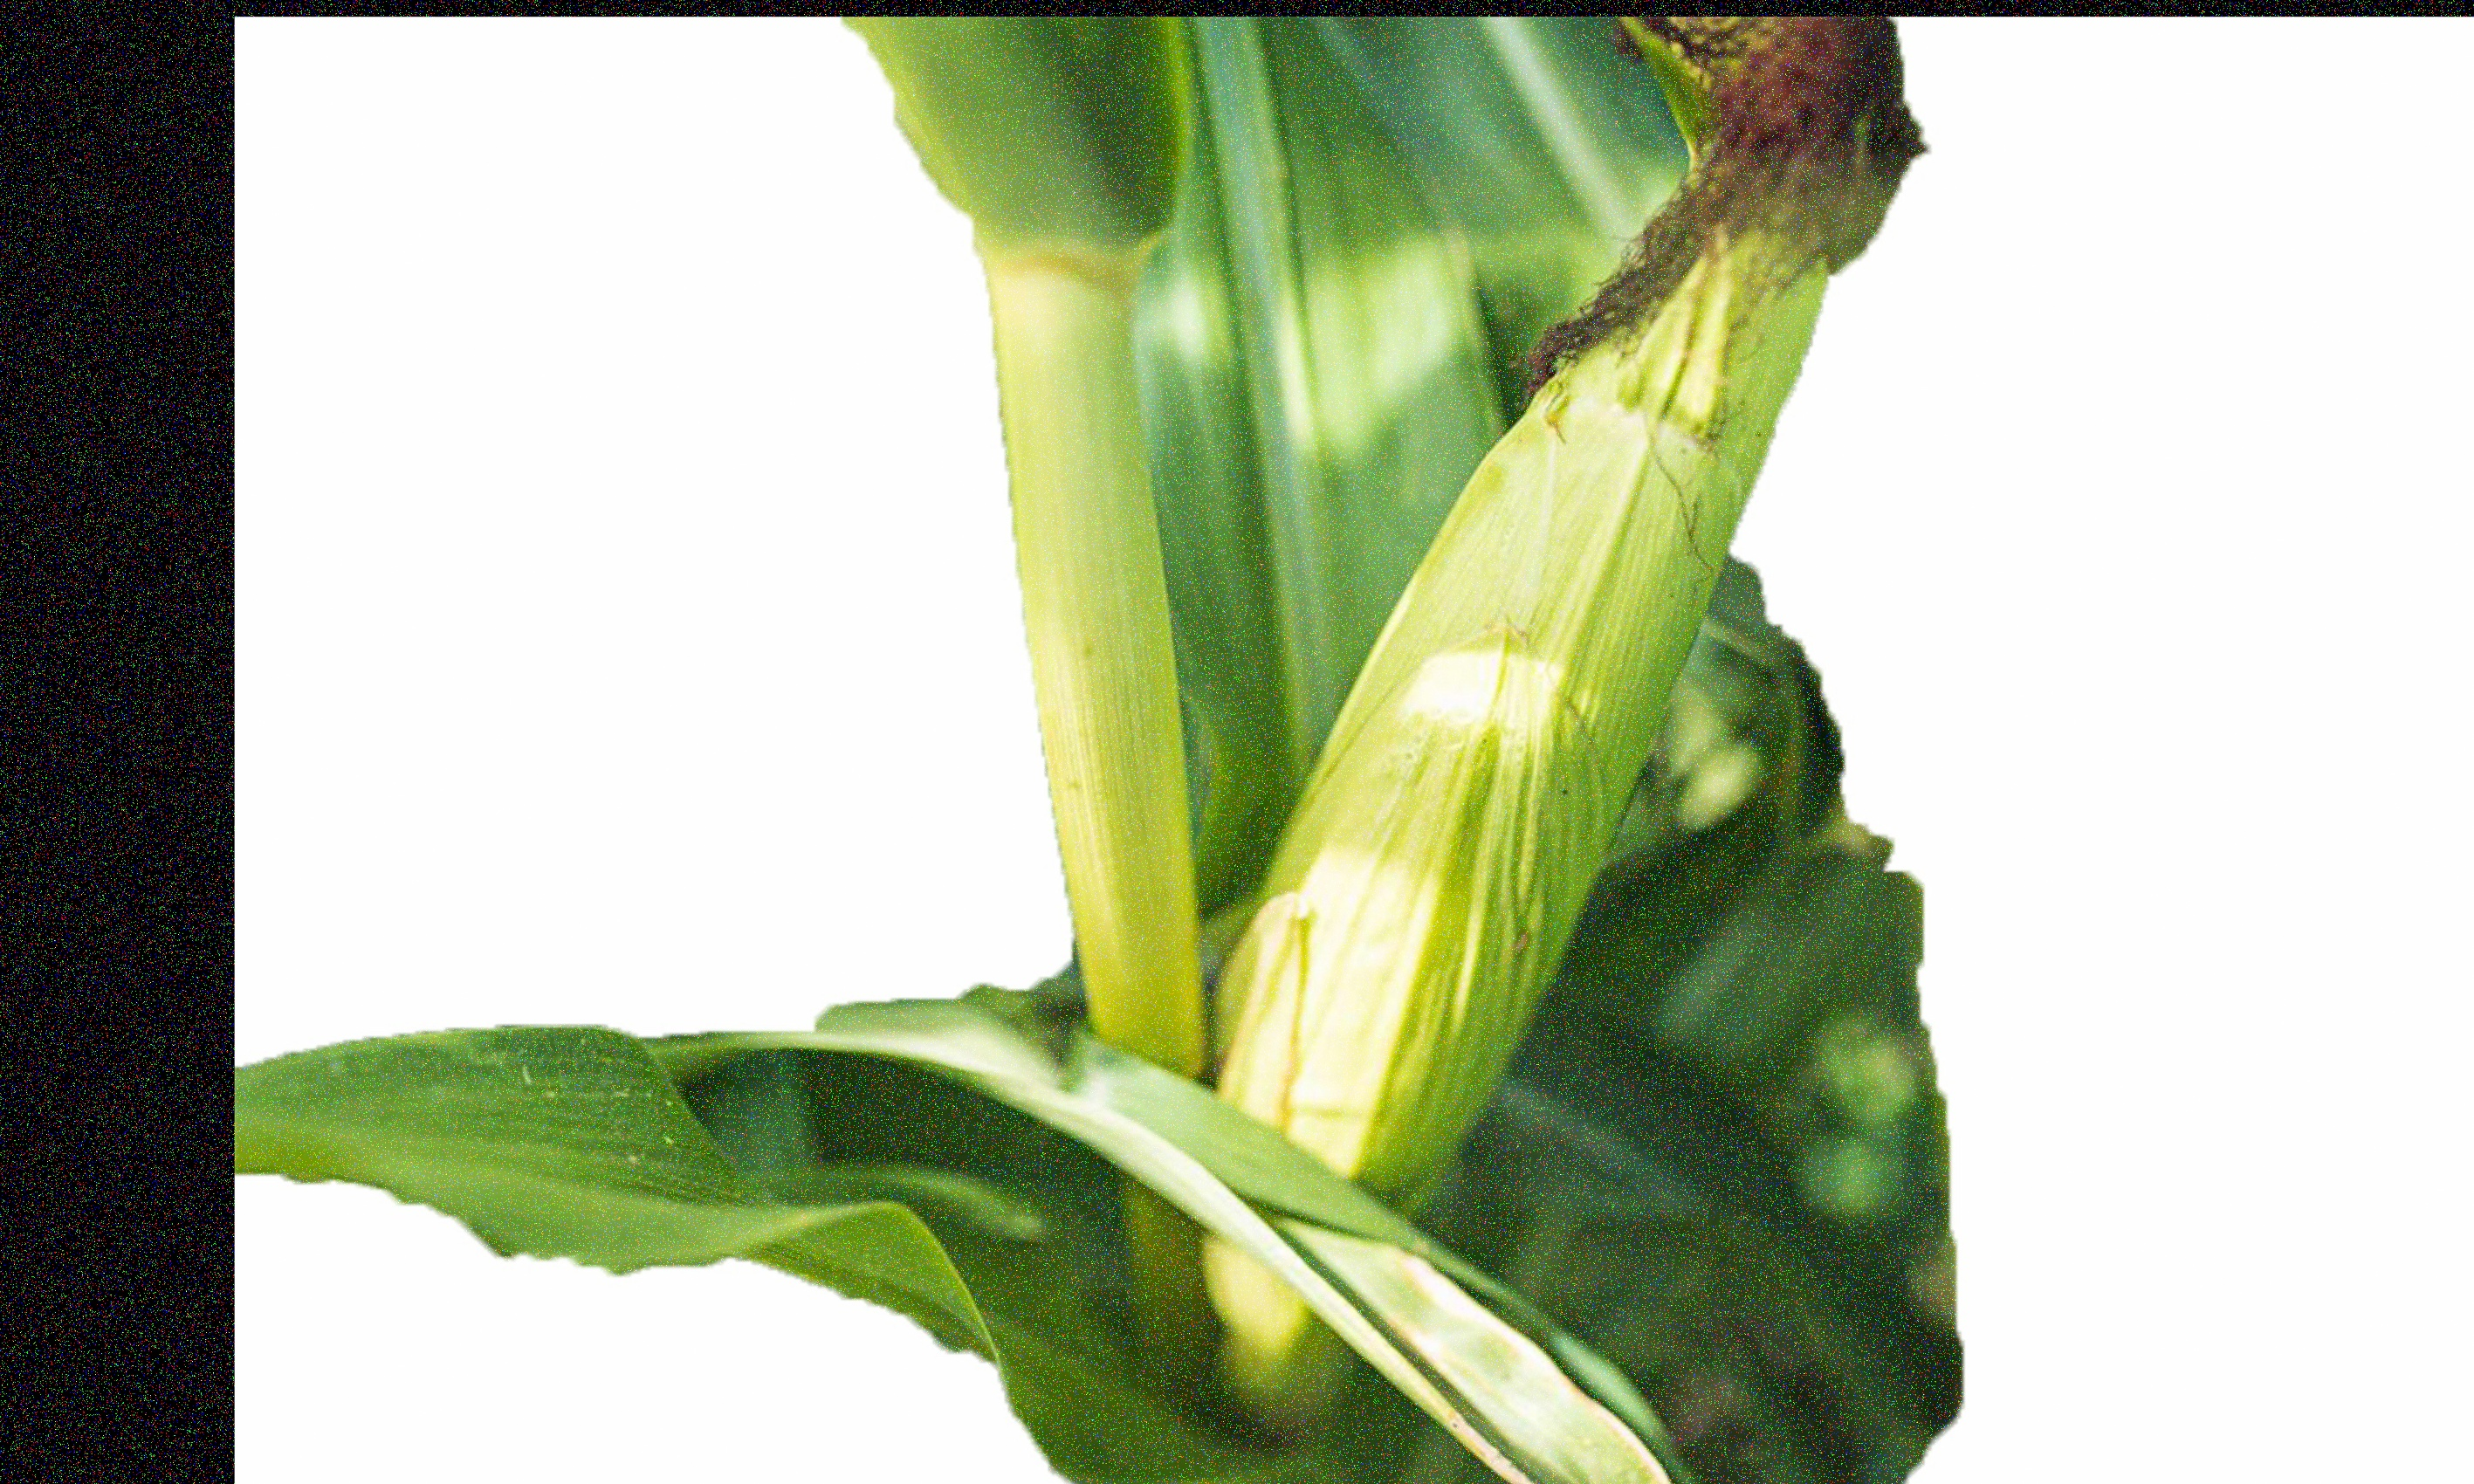corn_plant: (1056, 46, 1889, 1385)
